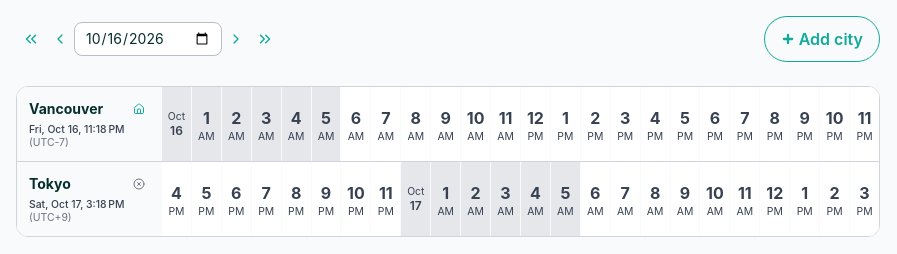
WorldClock › does not offer the primary city for deletion and removes other cities
This screenshot has width=897, height=254.
Click the button named "Remove Tokyo" at (139, 184), box [129, 174, 149, 194]
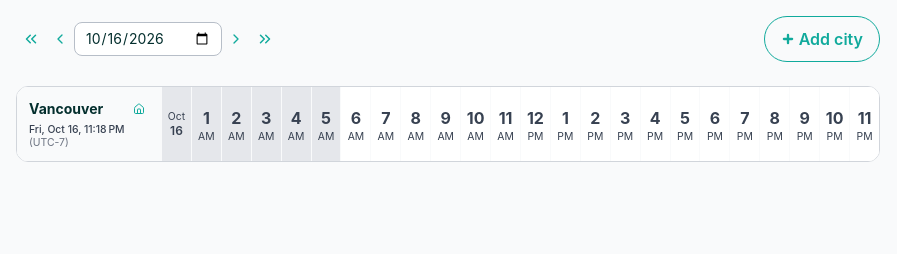
expect the text "Tokyo" is gone: met
